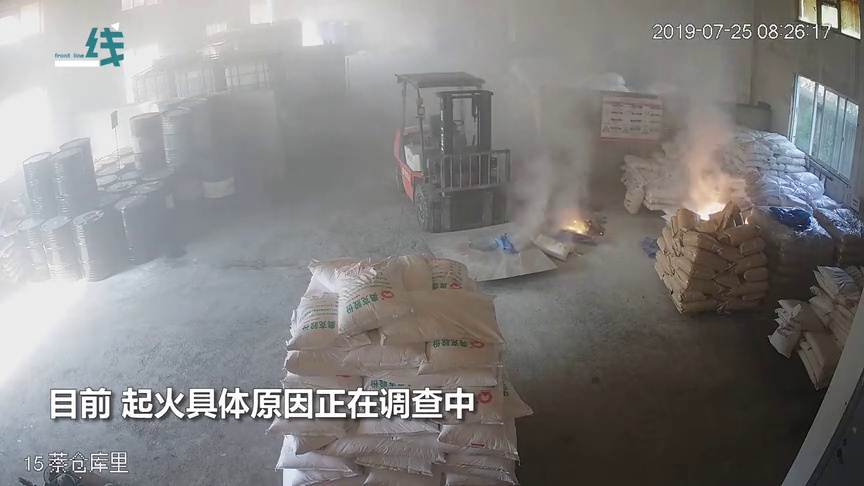smoke: (518, 128, 584, 218), (679, 95, 723, 197)
